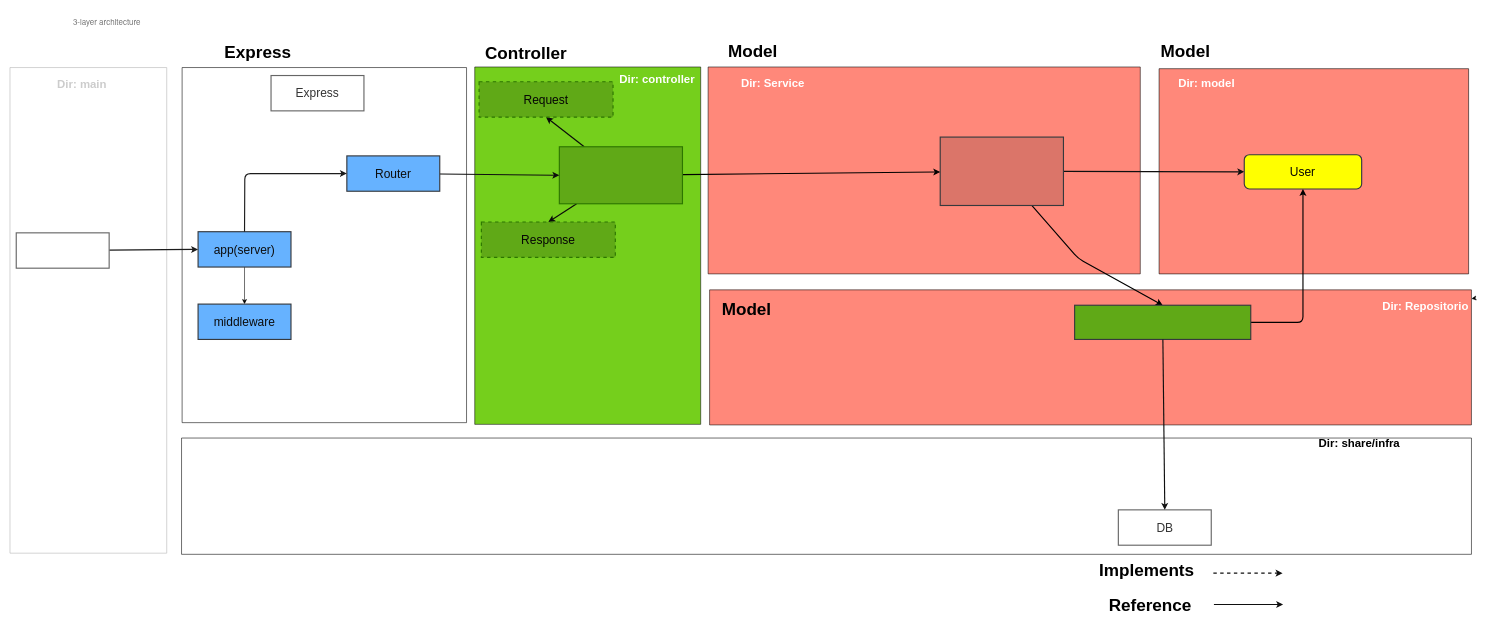
Image size: 1488x625. Some labels were removed from this diagram. The centre of each missing label's shape, as x and y in pixels:
"index" goes at point (62, 250).
"UserController (CreateUserController)" goes at point (620, 175).
"UserRepositoryDatabase" goes at point (1162, 322).
"UserService (CreateUserUseCase)" goes at point (1001, 171).
